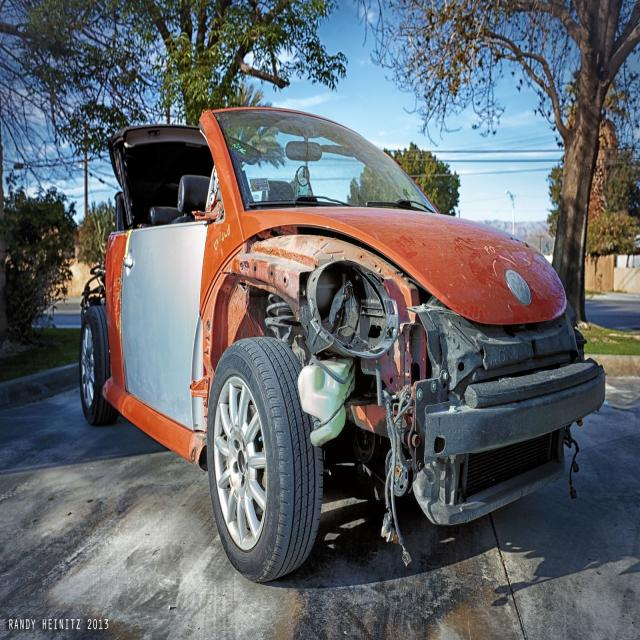crush: (189, 166, 606, 525)
